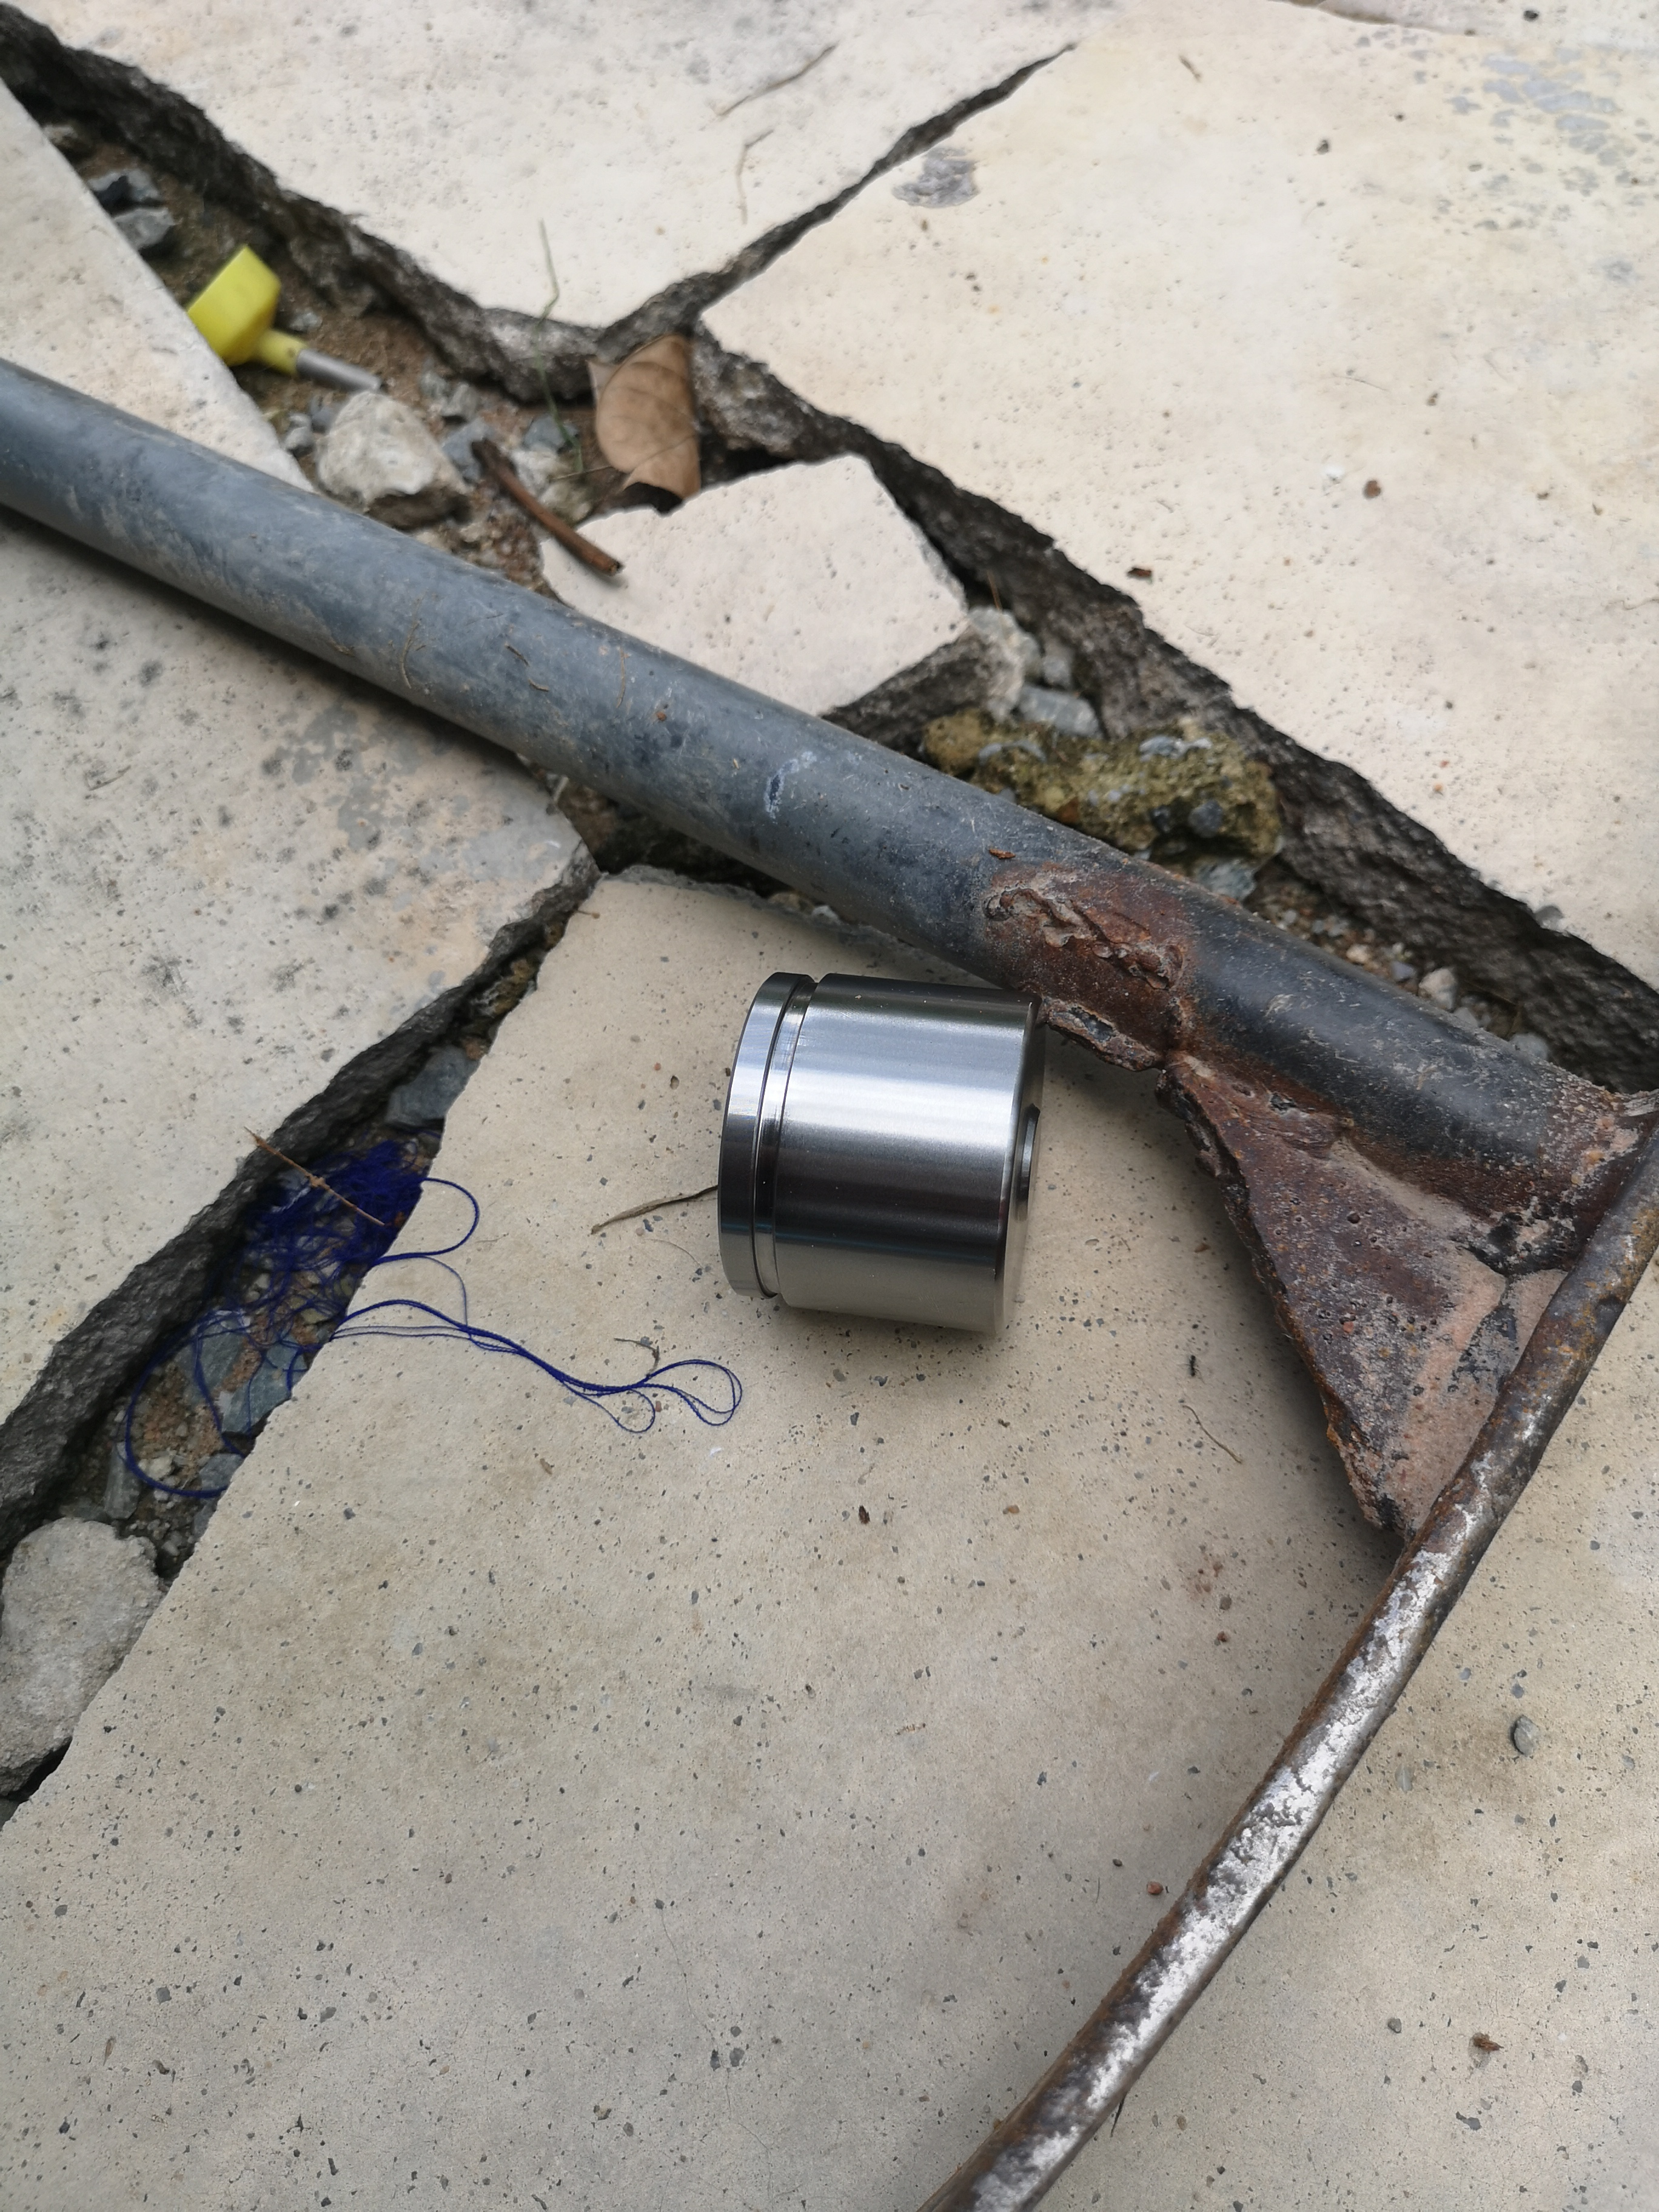ลูกสูบดิสเบรค: (690, 953, 1094, 1359)
